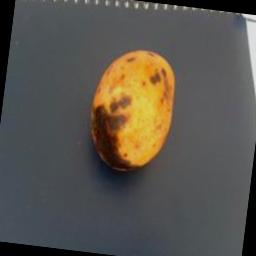Mango Rotten: (70, 40, 190, 182)
